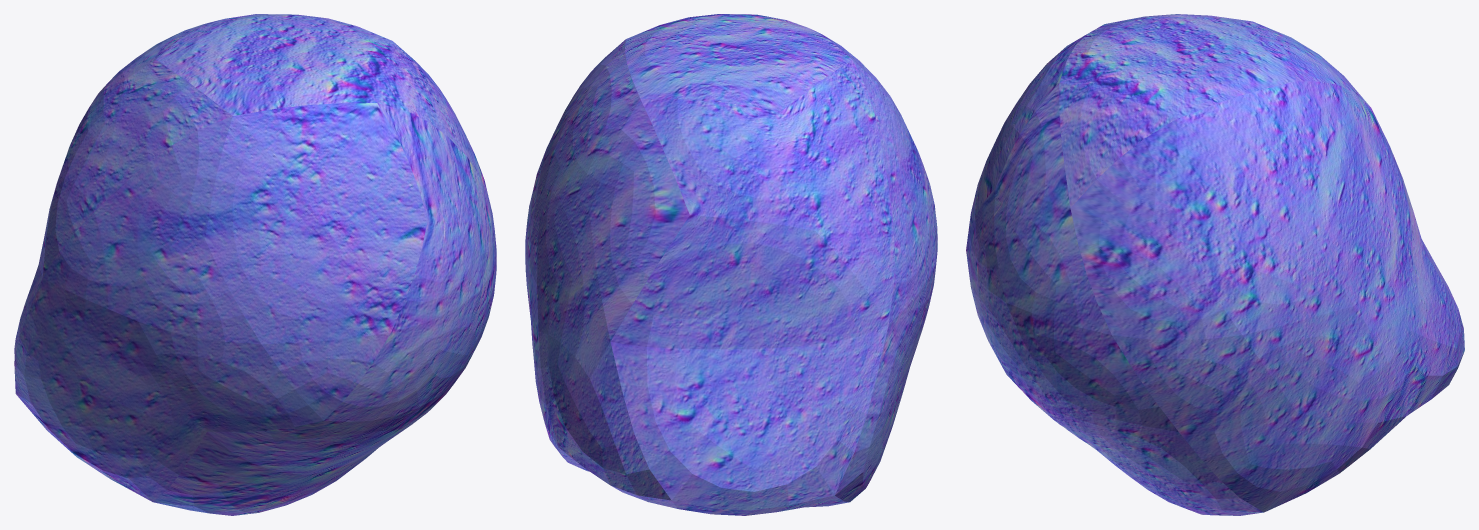
Rendered from bigasteroid0_LOD2.fbx.
3 views of the same model, side by side, from view 1: azimuth 30°, elevation 25°; view 2: azimuth 150°, elevation 25°; view 3: azimuth 270°, elevation 25° (orthographic). The views are drawn at different scales.
Visible parts, largest first — view 1: Icosphere; view 2: Icosphere; view 3: Icosphere.
Part boxes in pixels (x1,y1,x2,y2): Icosphere: (14,14,496,515); Icosphere: (525,14,937,515); Icosphere: (966,14,1464,515).
Bounding box in the file's own units: 196 × 219 × 221.
